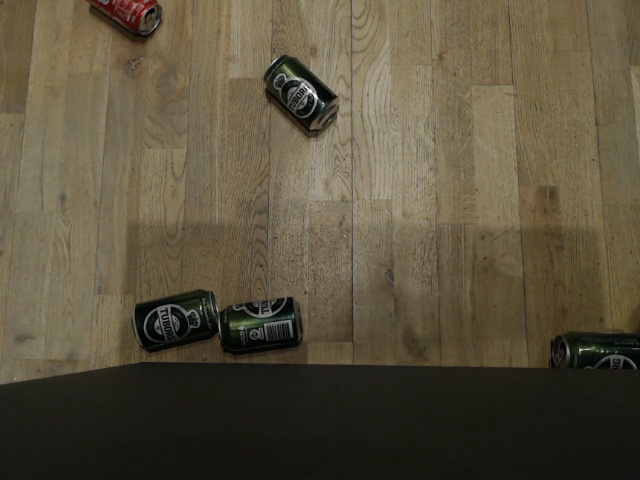beer: (260, 54, 342, 138), (131, 283, 220, 353), (219, 290, 306, 358), (549, 328, 640, 377)
cola: (87, 0, 165, 43)
